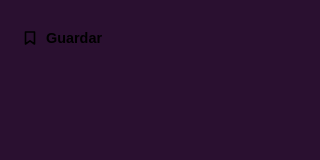
Test: botón Guardar › guarda_y_al_pulsar_otra_vez_lo_quita
The width and height of the screenshot is (320, 160).
Click the button with aria-label "Guardar esta ayuda".
click(62, 38)  # box [8, 16, 116, 60]
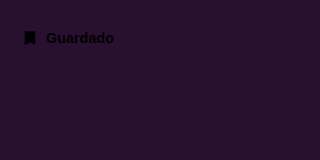
Expected: the button "Guardado" is pressed
Click the button "Guardado".
click(68, 38)  # box [8, 16, 128, 60]
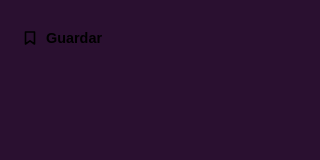
Expected: the button with aria-label "Guardar esta ayuda" is not pressed, [8, 16, 116, 60]
